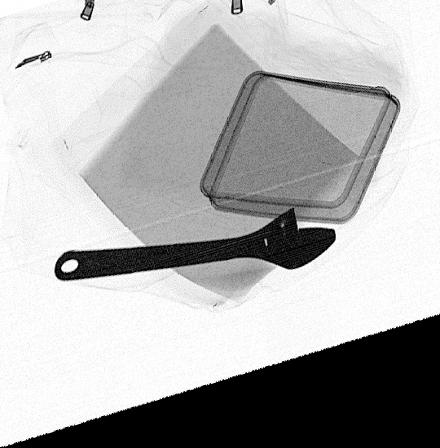Wrench: (54, 219, 336, 288)
